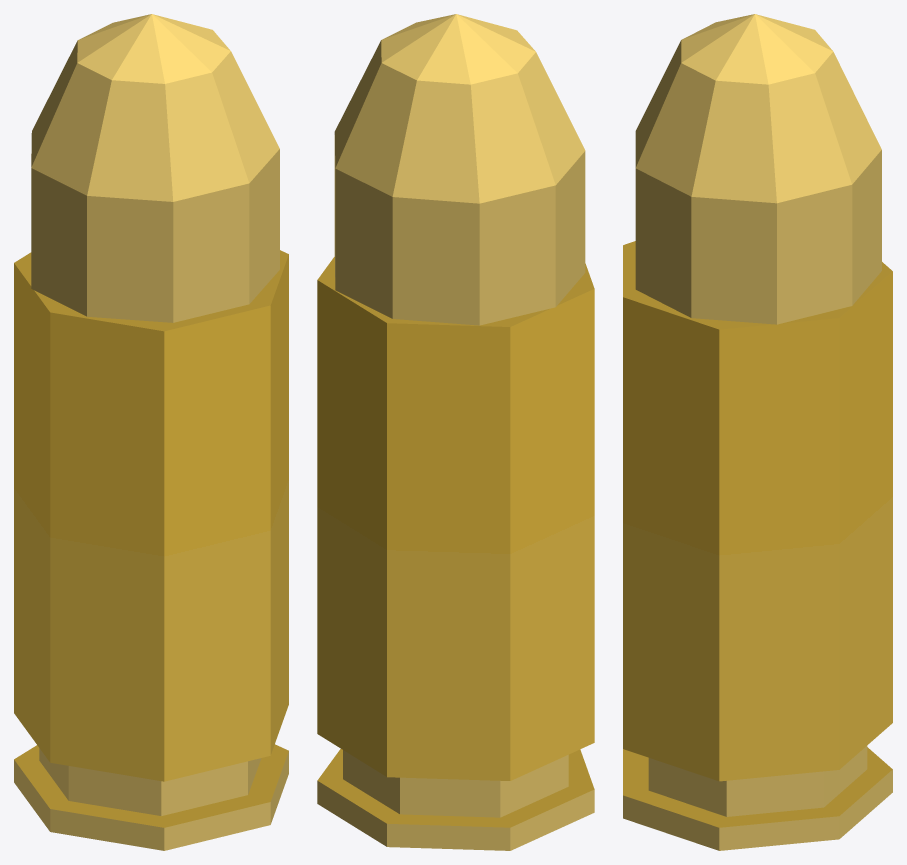
Rendered from bullet_9mm.fbx.
3 views of the same model, side by side, from view 1: azimuth 30°, elevation 25°; view 2: azimuth 150°, elevation 25°; view 3: azimuth 270°, elevation 25° (orthographic).
Visible parts, largest first — view 1: cylinder, sphere, cylinder_2, cylinder_1; view 2: cylinder, sphere, cylinder_2, cylinder_1; view 3: cylinder, sphere, cylinder_2, cylinder_1.
Boxes of the visible parts, x1,y1,x2,y2 form: cylinder: (14, 250, 288, 781); sphere: (31, 14, 279, 322); cylinder_2: (14, 744, 288, 850); cylinder_1: (39, 748, 261, 815); cylinder: (317, 256, 594, 780); sphere: (334, 14, 585, 325); cylinder_2: (317, 749, 594, 850); cylinder_1: (343, 750, 568, 817); cylinder: (623, 241, 892, 781); sphere: (635, 14, 881, 324); cylinder_2: (623, 747, 892, 850); cylinder_1: (648, 746, 867, 816).
Size of the model in its own units: 6.76 by 21 by 6.59.
